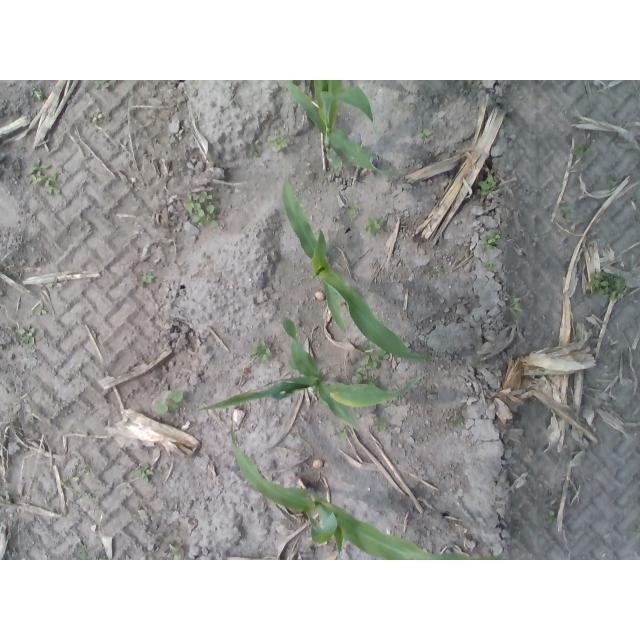Maize: (230, 418, 507, 558), (284, 174, 429, 359), (196, 315, 428, 429), (285, 81, 404, 175), (313, 80, 375, 134)
Weeds: (183, 191, 217, 226), (154, 389, 183, 416), (593, 269, 622, 291), (250, 339, 275, 362), (29, 158, 51, 183), (361, 346, 382, 369), (44, 171, 60, 193), (507, 293, 521, 315), (368, 215, 385, 232), (560, 199, 572, 222), (478, 177, 495, 193), (20, 327, 37, 342), (138, 460, 152, 478), (170, 544, 184, 561), (94, 81, 119, 90), (31, 87, 45, 103), (273, 136, 290, 149), (416, 130, 433, 143), (372, 416, 385, 432), (451, 413, 465, 427), (485, 231, 499, 245), (90, 108, 102, 123), (141, 272, 155, 284), (543, 510, 555, 522), (572, 146, 584, 158), (78, 545, 88, 557), (438, 261, 446, 275), (248, 146, 258, 157), (336, 429, 347, 439), (483, 263, 497, 270), (347, 204, 358, 212), (37, 306, 45, 316), (609, 180, 617, 188), (95, 556, 105, 561)
